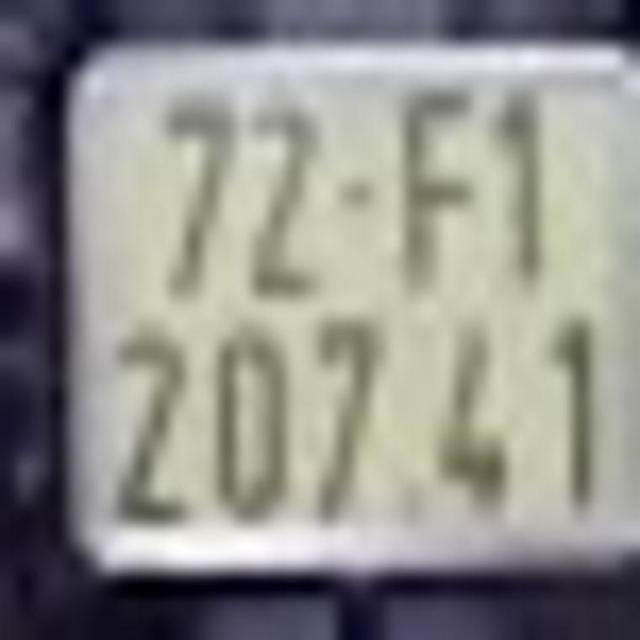0: (210, 319, 290, 526)
1: (542, 308, 606, 519), (497, 74, 551, 285)
2: (245, 92, 328, 303), (109, 324, 190, 527)
4: (438, 319, 517, 524)
7: (306, 310, 393, 532), (153, 96, 234, 306)
F: (394, 79, 489, 296)
